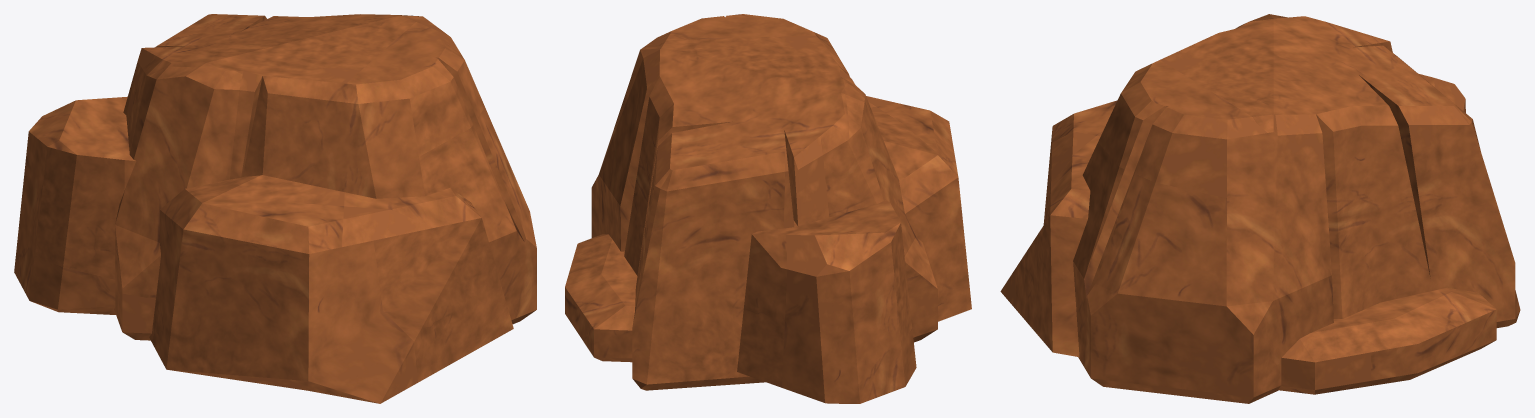
Rendered from rock5.fbx.
3 views of the same model, side by side, from view 1: azimuth 30°, elevation 25°; view 2: azimuth 150°, elevation 25°; view 3: azimuth 270°, elevation 25° (orthographic). The views are drawn at different scales.
Parts seen in each view (by area): view 1: 5; view 2: 5; view 3: 5.
Boxes of the visible parts, left/top/right/bottom form: 5: left=14, top=14, right=536, bottom=403; 5: left=565, top=14, right=971, bottom=403; 5: left=1000, top=14, right=1520, bottom=403.
Size of the model in its own units: 46.62 by 28.71 by 51.79.
Materials: 1 (1 with a texture image).
